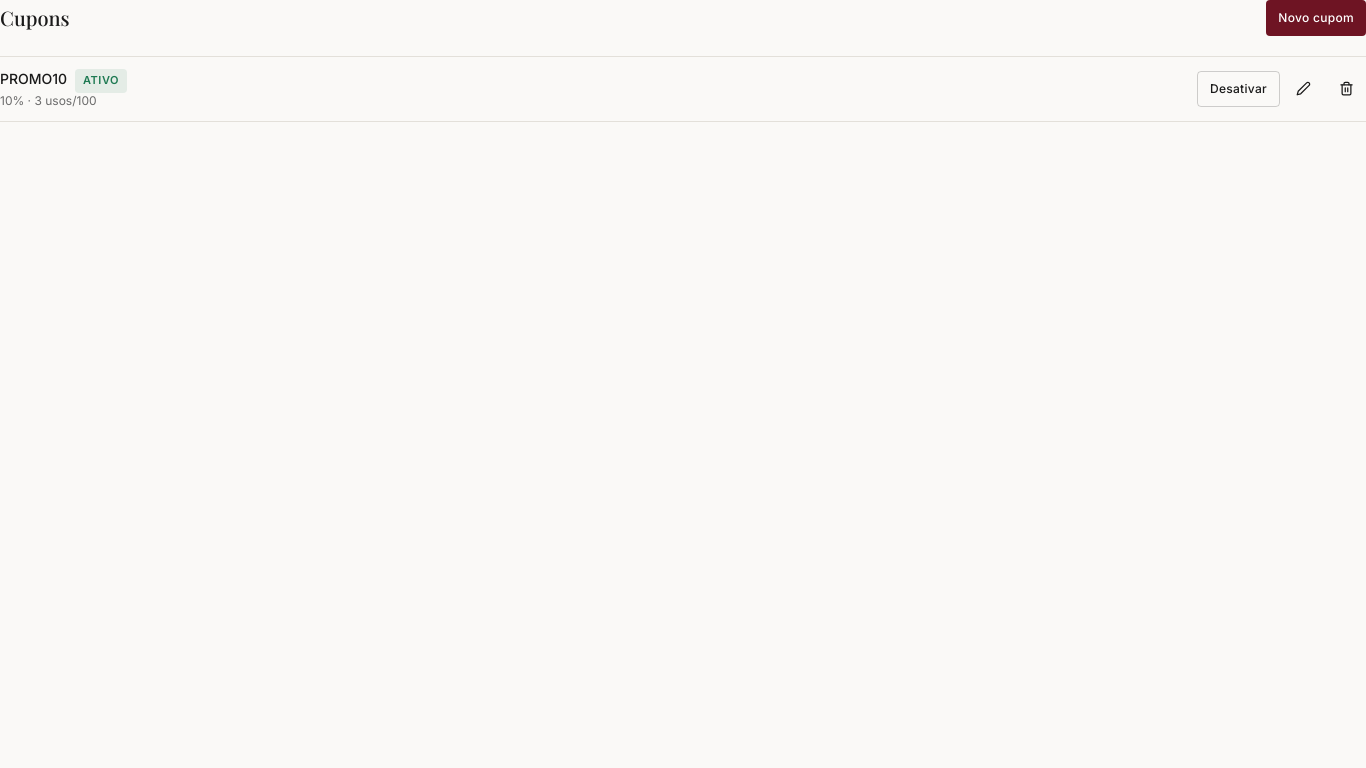
Test case: AdminCupons › mostra a mensagem do backend quando a exclusão é bloqueada
Expected: the text "PROMO10" is shown, x1=0 y1=70 x2=67 y2=87
Step 1. Click the button named "Excluir PROMO10" → (1346, 89), box x1=1327 y1=71 x2=1365 y2=107
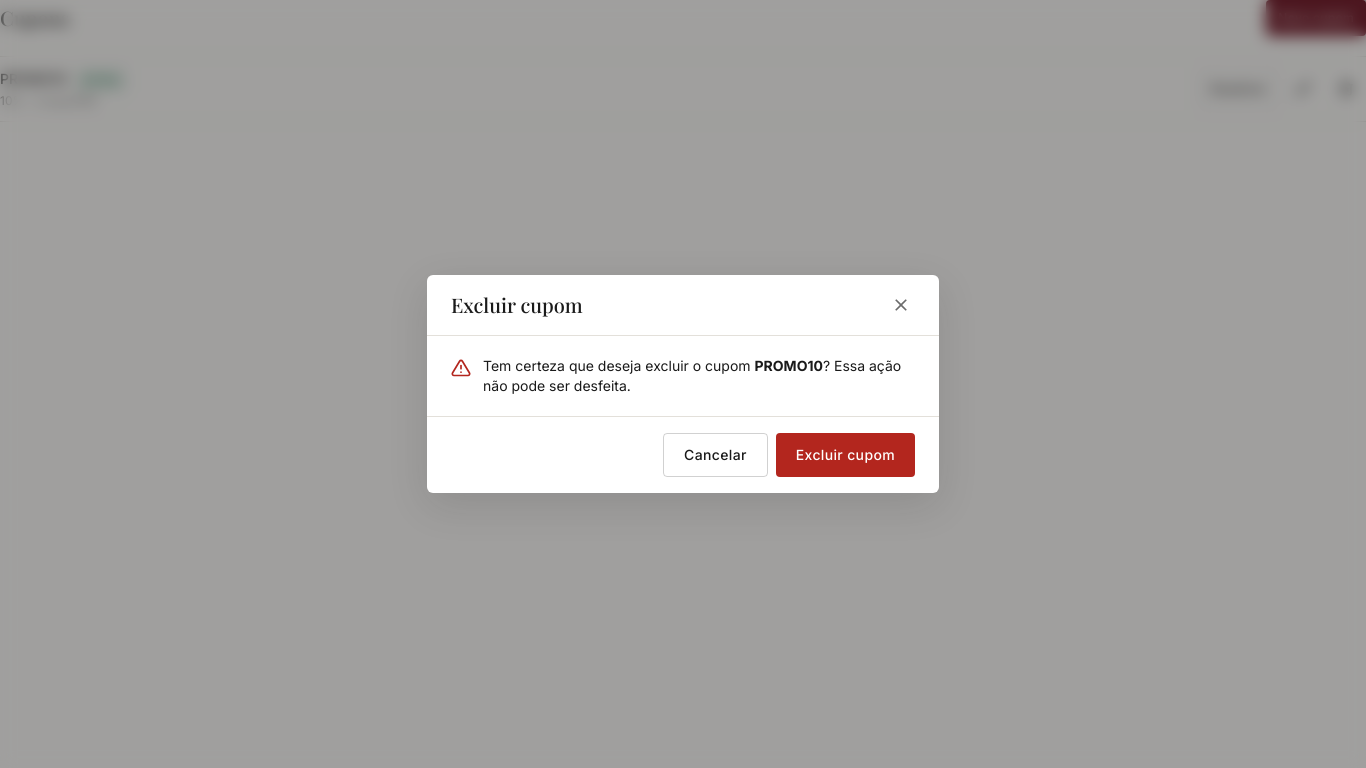
Step 2. Click the button "Excluir cupom" → (845, 455), box x1=776 y1=433 x2=915 y2=477
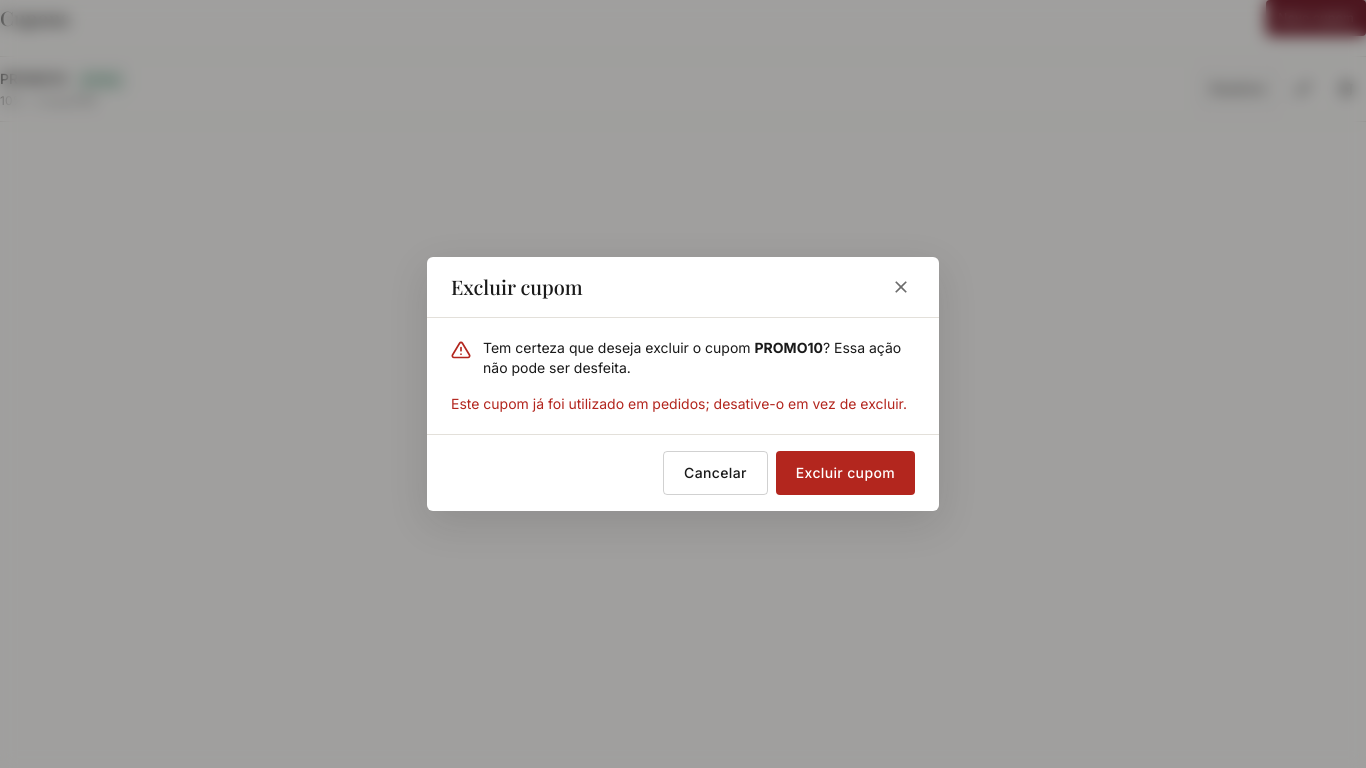
Now the message shows "desative-o em vez de excluir", box x1=451 y1=395 x2=907 y2=412
